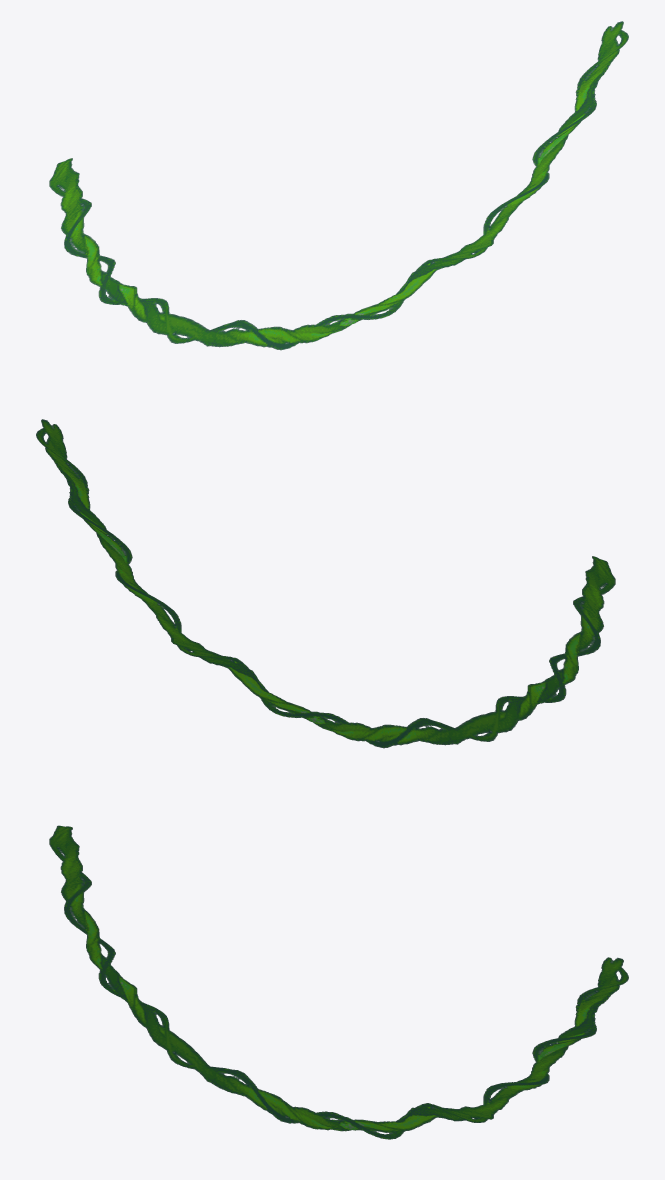
The model's file is ivy_3_dream.glb.
The picture shows the model from 3 angles, top to bottom: view 1: azimuth 30°, elevation 25°; view 2: azimuth 150°, elevation 25°; view 3: azimuth 330°, elevation 25°; orthographic projection.
Parts seen in each view (by area): view 1: Ivy_3; view 2: Ivy_3; view 3: Ivy_3.
Boxes of the visible parts, left/top/right/bottom form: Ivy_3: left=49, top=21, right=628, bottom=350; Ivy_3: left=36, top=419, right=615, bottom=748; Ivy_3: left=49, top=825, right=628, bottom=1139.
Size of the model in its own units: 3.6 by 1.48 by 6.98e-09.
1 material, 1 textured.
